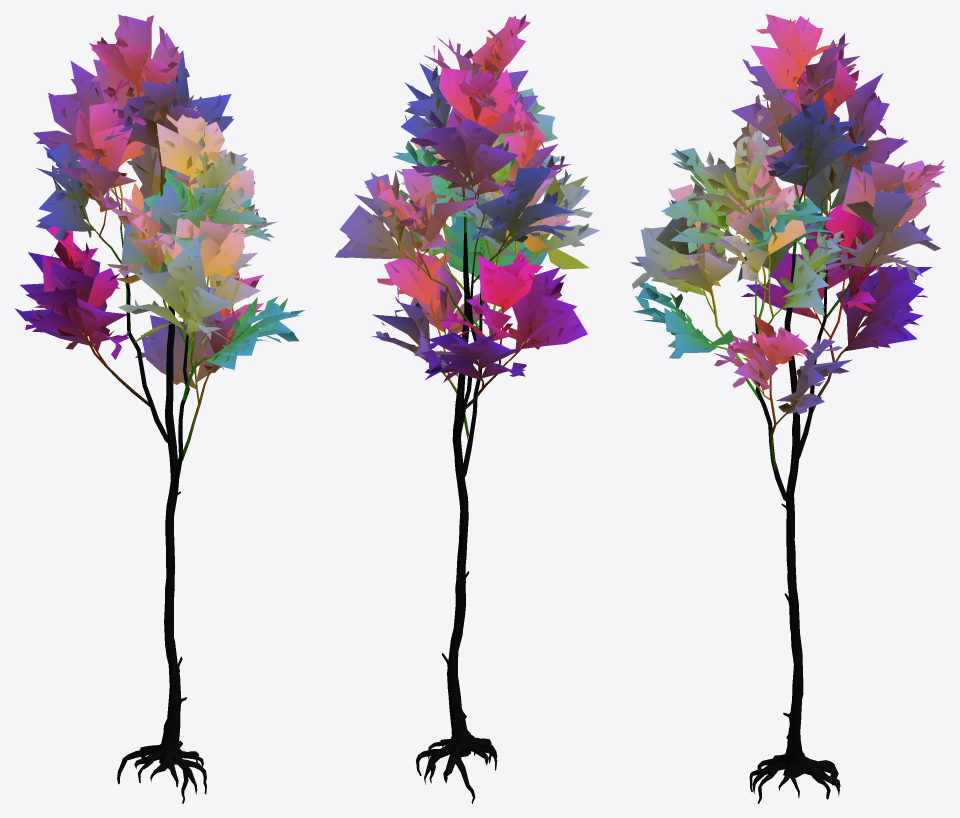
File: SM_EuropeanBeech_L_03.fbx
The picture shows the model from 3 angles, left to right: view 1: azimuth 30°, elevation 25°; view 2: azimuth 150°, elevation 25°; view 3: azimuth 270°, elevation 25°; orthographic projection.
Parts seen in each view (by area): view 1: SM_EuropeanBeech_L_03_LOD0; view 2: SM_EuropeanBeech_L_03_LOD0; view 3: SM_EuropeanBeech_L_03_LOD0.
Boxes of the visible parts, box(x1,y1,x2,y2) form: SM_EuropeanBeech_L_03_LOD0: box(14, 14, 304, 803); SM_EuropeanBeech_L_03_LOD0: box(335, 14, 599, 803); SM_EuropeanBeech_L_03_LOD0: box(630, 14, 945, 803).
Size of what is drawn, in the model's own units: 513 by 652 by 1731.
